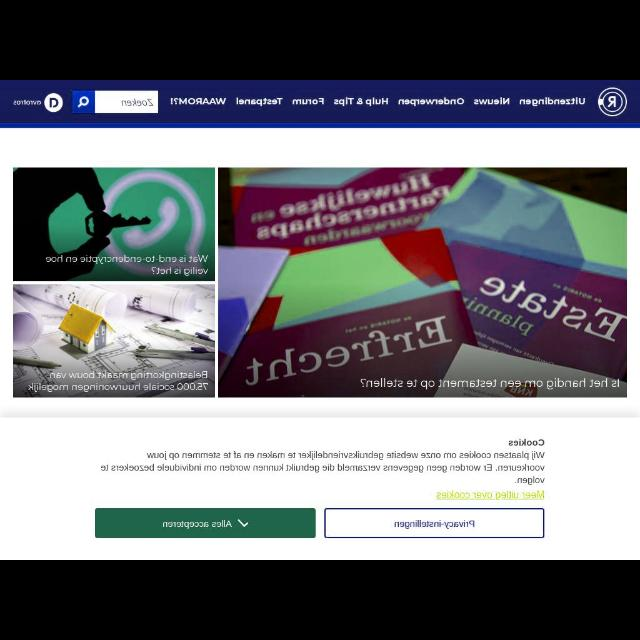button: (73, 91, 95, 112)
icon: (77, 96, 89, 108)
image: (218, 168, 626, 396), (12, 283, 216, 397), (13, 169, 215, 281), (597, 85, 629, 116), (12, 94, 64, 112)
input: (95, 91, 158, 113)
panel: (1, 418, 639, 558)
text: (99, 438, 546, 486), (436, 488, 546, 499), (519, 97, 587, 107), (334, 96, 390, 108), (171, 96, 227, 108), (398, 97, 464, 107), (235, 97, 283, 107), (473, 96, 511, 105), (292, 97, 326, 107), (122, 99, 154, 108)
textbutton: (322, 508, 546, 540), (95, 508, 318, 540)
toolbar: (1, 80, 640, 130)
